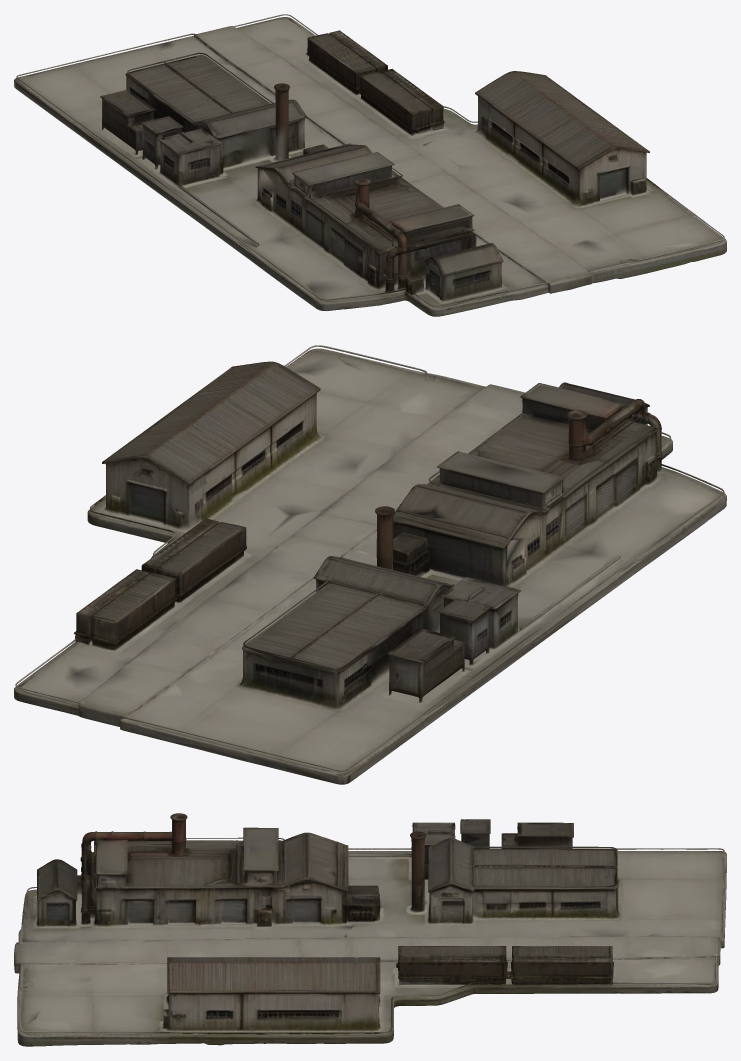
File: factory-visual-m.glb
The picture shows the model from 3 angles, top to bottom: view 1: azimuth 30°, elevation 25°; view 2: azimuth 150°, elevation 25°; view 3: azimuth 270°, elevation 25°; orthographic projection. The views are drawn at different scales.
Parts seen in each view (by area): view 1: node_0; view 2: node_0; view 3: node_0.
Part boxes in pixels (left/top/right/bottom): node_0: left=14, top=14, right=726, bottom=316; node_0: left=14, top=345, right=726, bottom=784; node_0: left=14, top=813, right=726, bottom=1046.
Bounding box in the file's own units: 0.6315 × 0.1367 × 1.02.
Materials: 1 (1 with a texture image).
